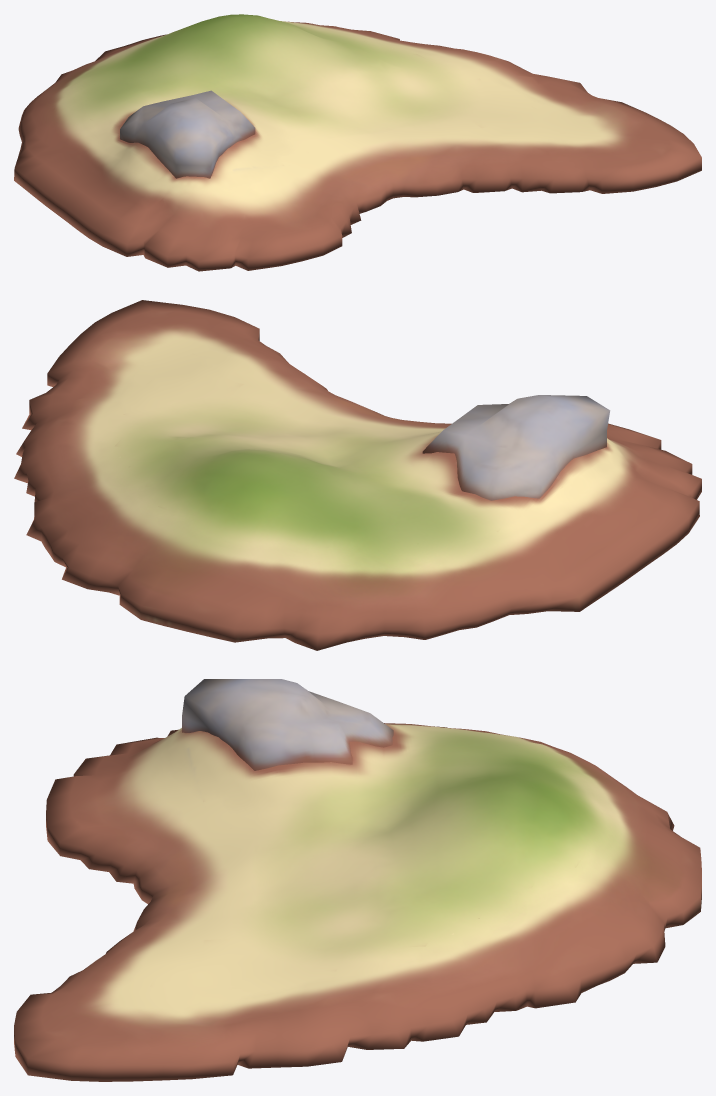
File: Island2.glb
The picture shows the model from 3 angles, top to bottom: view 1: azimuth 30°, elevation 25°; view 2: azimuth 150°, elevation 25°; view 3: azimuth 270°, elevation 25°; orthographic projection. The views are drawn at different scales.
Parts seen in each view (by area): view 1: Island1; view 2: Island1; view 3: Island1.
Boxes of the visible parts, x1,y1,x2,y2 form: Island1: (14,14,701,271); Island1: (14,300,701,650); Island1: (14,679,701,1081).
Bounding box in the file's own units: 115 × 19.33 × 98.26.
Materials: 1 (1 with a texture image).
